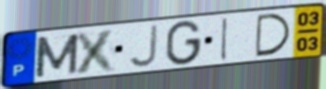D: (254, 12, 294, 59)
G: (163, 19, 204, 67)
I: (219, 16, 231, 62)
J: (127, 23, 160, 69)
M: (33, 32, 81, 79)
X: (73, 27, 120, 76)
